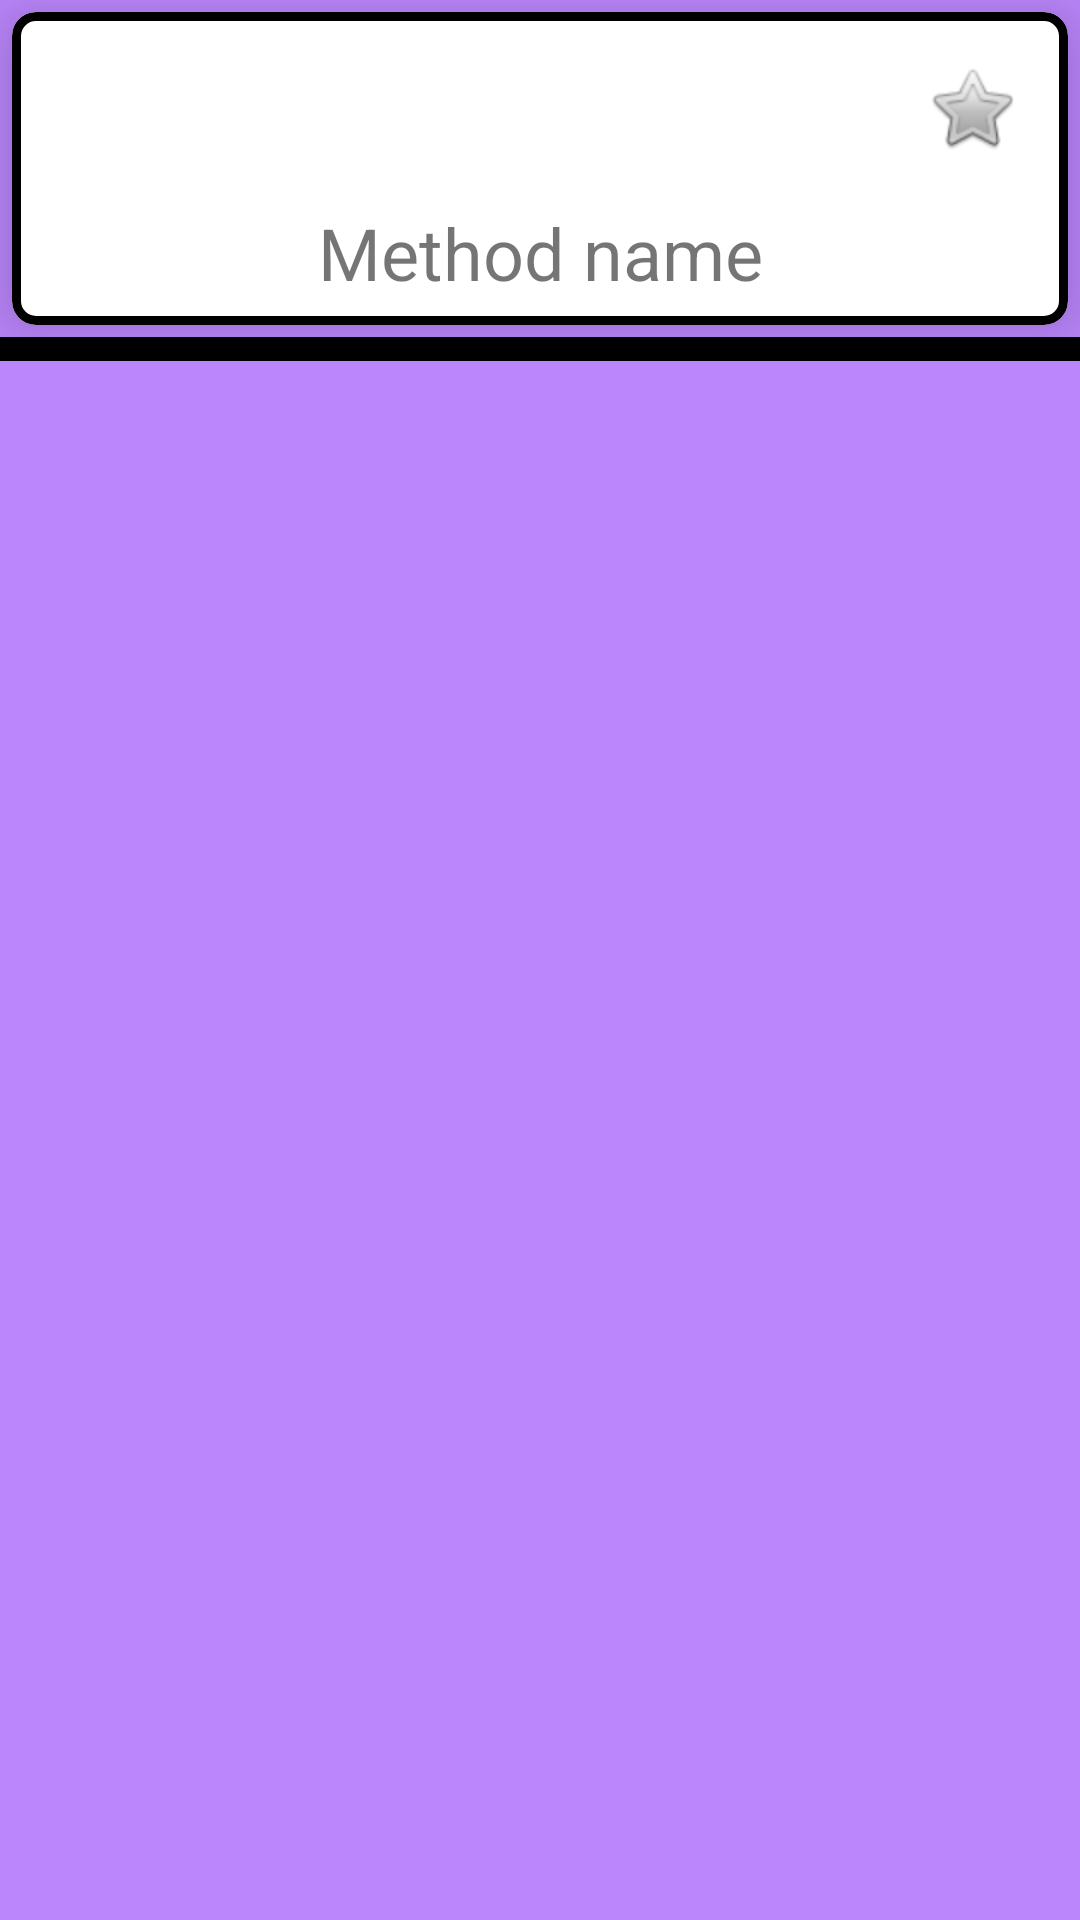

Icons on this 1080 x 1920 Android screen, each with the point to tap as (x=x, y=y):
star: (x=973, y=109)
